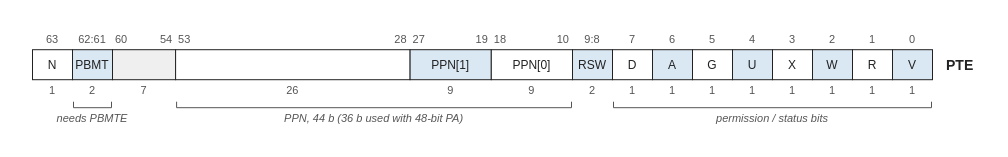
Some shapes in this 1008 by 157 pixel diagram are drawn without their labels. The shapes that lost their labels are listed below. From the top down, each one's box as (x1, y1, x2, y2) in pixels, then its label:
(112, 49, 176, 80): reserved
(175, 49, 410, 80): PPN[2]
